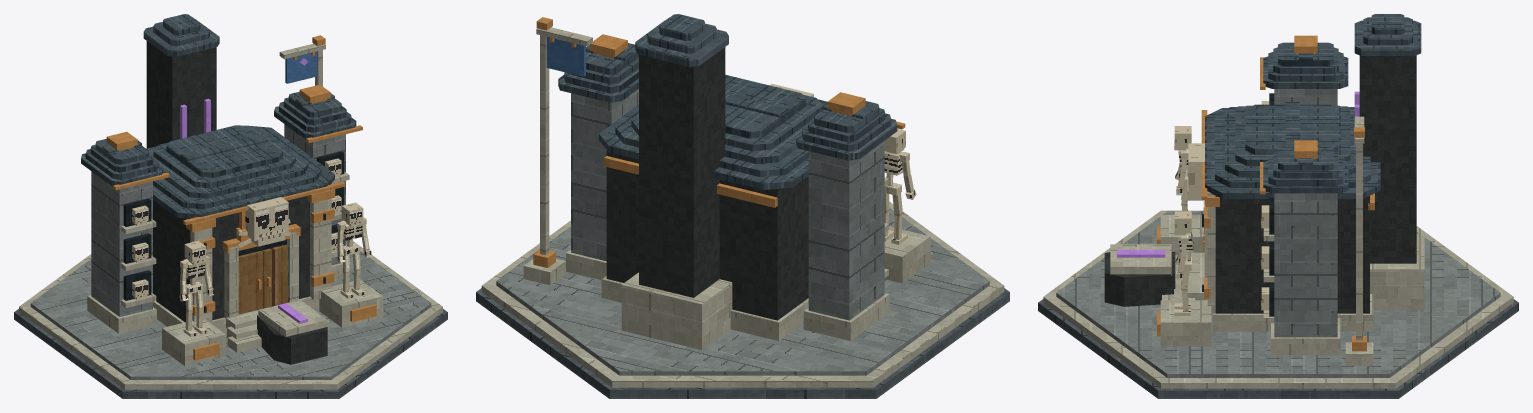
The model's file is dwarf_necromancy_ritual_hex_v1.glb.
The picture shows the model from 3 angles, left to right: view 1: azimuth 30°, elevation 25°; view 2: azimuth 150°, elevation 25°; view 3: azimuth 270°, elevation 25°; orthographic projection. The views are drawn at different scales.
Parts seen in each view (by area): view 1: Dwarf_Necromancy_Ritual_Hex_V1_Hall, Dwarf_Necromancy_Ritual_Hex_V1_Foundation, Dwarf_Necromancy_Ritual_Hex_V1_Roofs, Dwarf_Necromancy_Ritual_Hex_V1_Focus, Dwarf_Necromancy_Ritual_Hex_V1_Training, Dwarf_Necromancy_Ritual_Hex_V1_Details, Dwarf_Necromancy_Ritual_Hex_V1_Faction, Dwarf_Necromancy_Ritual_Hex_V1_Courtyard; view 2: Dwarf_Necromancy_Ritual_Hex_V1_Hall, Dwarf_Necromancy_Ritual_Hex_V1_Foundation, Dwarf_Necromancy_Ritual_Hex_V1_Roofs, Dwarf_Necromancy_Ritual_Hex_V1_Faction, Dwarf_Necromancy_Ritual_Hex_V1_Focus, Dwarf_Necromancy_Ritual_Hex_V1_Training, Dwarf_Necromancy_Ritual_Hex_V1_Details; view 3: Dwarf_Necromancy_Ritual_Hex_V1_Hall, Dwarf_Necromancy_Ritual_Hex_V1_Foundation, Dwarf_Necromancy_Ritual_Hex_V1_Roofs, Dwarf_Necromancy_Ritual_Hex_V1_Training, Dwarf_Necromancy_Ritual_Hex_V1_Focus, Dwarf_Necromancy_Ritual_Hex_V1_Faction, Dwarf_Necromancy_Ritual_Hex_V1_Details, Dwarf_Necromancy_Ritual_Hex_V1_Courtyard.
Part boxes in pixels (x1,y1,x2,y2): Dwarf_Necromancy_Ritual_Hex_V1_Hall: (87,41,349,333); Dwarf_Necromancy_Ritual_Hex_V1_Foundation: (14,240,447,398); Dwarf_Necromancy_Ritual_Hex_V1_Roofs: (81,14,362,225); Dwarf_Necromancy_Ritual_Hex_V1_Focus: (121,98,371,336); Dwarf_Necromancy_Ritual_Hex_V1_Training: (162,279,383,365); Dwarf_Necromancy_Ritual_Hex_V1_Details: (186,189,335,323); Dwarf_Necromancy_Ritual_Hex_V1_Faction: (279,35,325,86); Dwarf_Necromancy_Ritual_Hex_V1_Courtyard: (226,299,329,352); Dwarf_Necromancy_Ritual_Hex_V1_Hall: (566,47,889,349); Dwarf_Necromancy_Ritual_Hex_V1_Foundation: (476,201,1009,398); Dwarf_Necromancy_Ritual_Hex_V1_Roofs: (558,14,905,189); Dwarf_Necromancy_Ritual_Hex_V1_Faction: (523,17,592,285); Dwarf_Necromancy_Ritual_Hex_V1_Focus: (770,84,916,277); Dwarf_Necromancy_Ritual_Hex_V1_Training: (884,226,930,283); Dwarf_Necromancy_Ritual_Hex_V1_Details: (604,156,777,207); Dwarf_Necromancy_Ritual_Hex_V1_Hall: (1204,55,1424,355); Dwarf_Necromancy_Ritual_Hex_V1_Foundation: (1038,210,1518,398); Dwarf_Necromancy_Ritual_Hex_V1_Roofs: (1201,14,1421,199); Dwarf_Necromancy_Ritual_Hex_V1_Training: (1104,215,1211,346); Dwarf_Necromancy_Ritual_Hex_V1_Focus: (1174,91,1359,323); Dwarf_Necromancy_Ritual_Hex_V1_Faction: (1345,116,1373,365); Dwarf_Necromancy_Ritual_Hex_V1_Details: (1202,191,1374,314); Dwarf_Necromancy_Ritual_Hex_V1_Courtyard: (1162,252,1206,300).
Size of the model in its own units: 1.59 by 1.22 by 1.84.
Materials: 1 (1 with a texture image).
